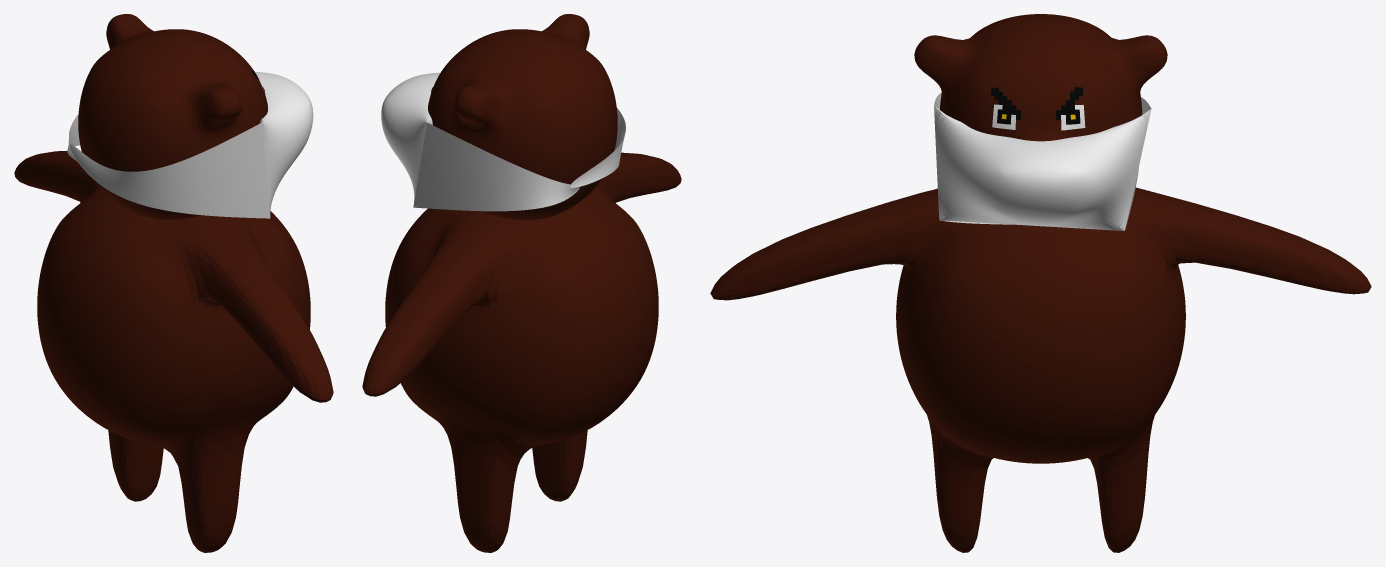
File: Thief.fbx
3 renders of one model, left to right at view 1: azimuth 30°, elevation 25°; view 2: azimuth 150°, elevation 25°; view 3: azimuth 270°, elevation 25°, orthographic. The views are drawn at different scales.
Visible parts, largest first — view 1: Cube, Cube.001, Cube.002; view 2: Cube, Cube.001, Cube.002; view 3: Cube, Cube.001, Cube.002.
Part boxes in pixels (left/top/right/bottom): Cube: left=14, top=151, right=333, bottom=552; Cube.001: left=78, top=14, right=267, bottom=219; Cube.002: left=67, top=71, right=313, bottom=218; Cube: left=362, top=152, right=681, bottom=552; Cube.001: left=428, top=14, right=617, bottom=219; Cube.002: left=381, top=72, right=625, bottom=211; Cube: left=710, top=187, right=1371, bottom=552; Cube.001: left=914, top=14, right=1167, bottom=141; Cube.002: left=934, top=92, right=1151, bottom=230.
Bounding box in the file's own units: 139 × 264 × 301.
